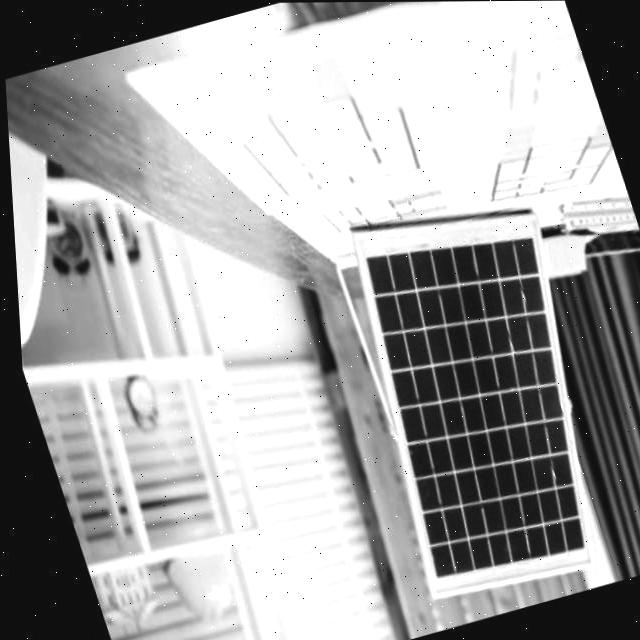Normal Solar Panel: (319, 185, 640, 604)
